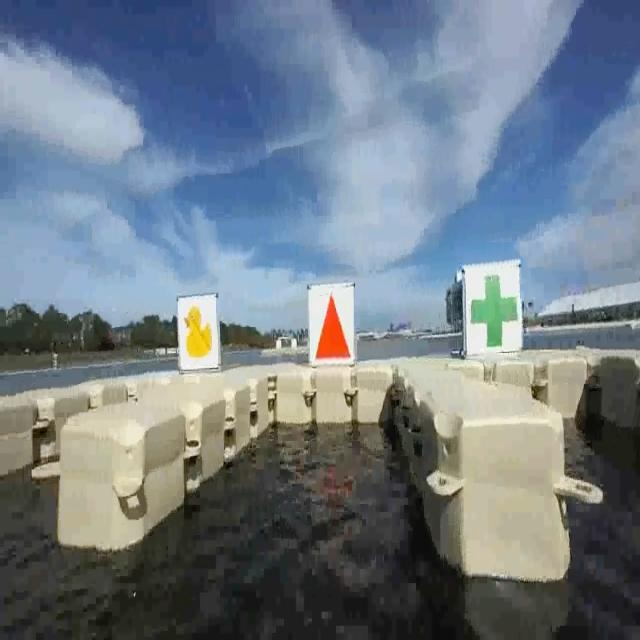blue-cross: (460, 266, 527, 364)
red-dot: (309, 283, 353, 364)
yellow-duck: (174, 297, 218, 369)
